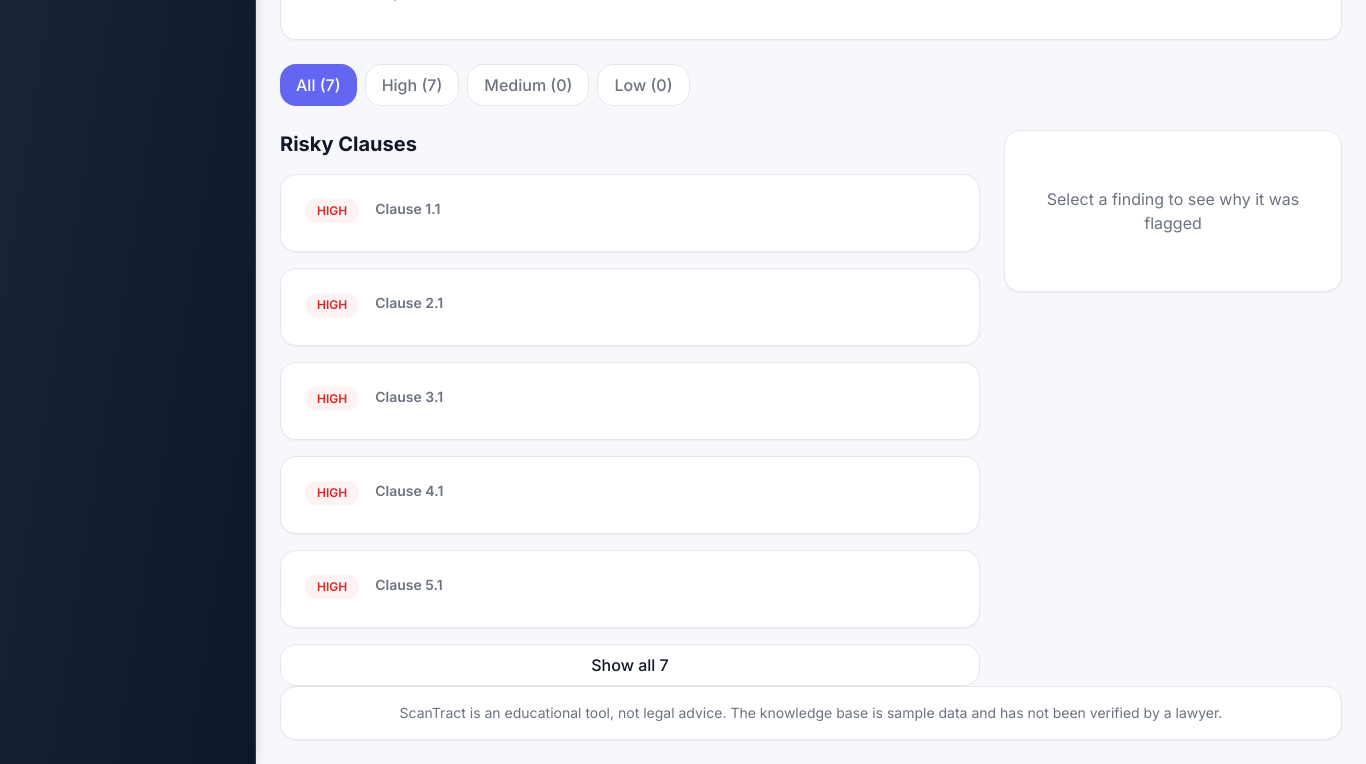
Test: ReportView › shows 5 finding cards and "Show all 7" button with 7 risky findings
The width and height of the screenshot is (1366, 764).
(page scrolled)
Check: the number of elements with test id "finding-card" is 5, box [280,174,980,252]; [280,268,980,346]; [280,362,980,440]; [280,456,980,534]; [280,550,980,628]
Note: Click the button
Click the button "Show all 7" at [630, 665], box [280,644,980,686]
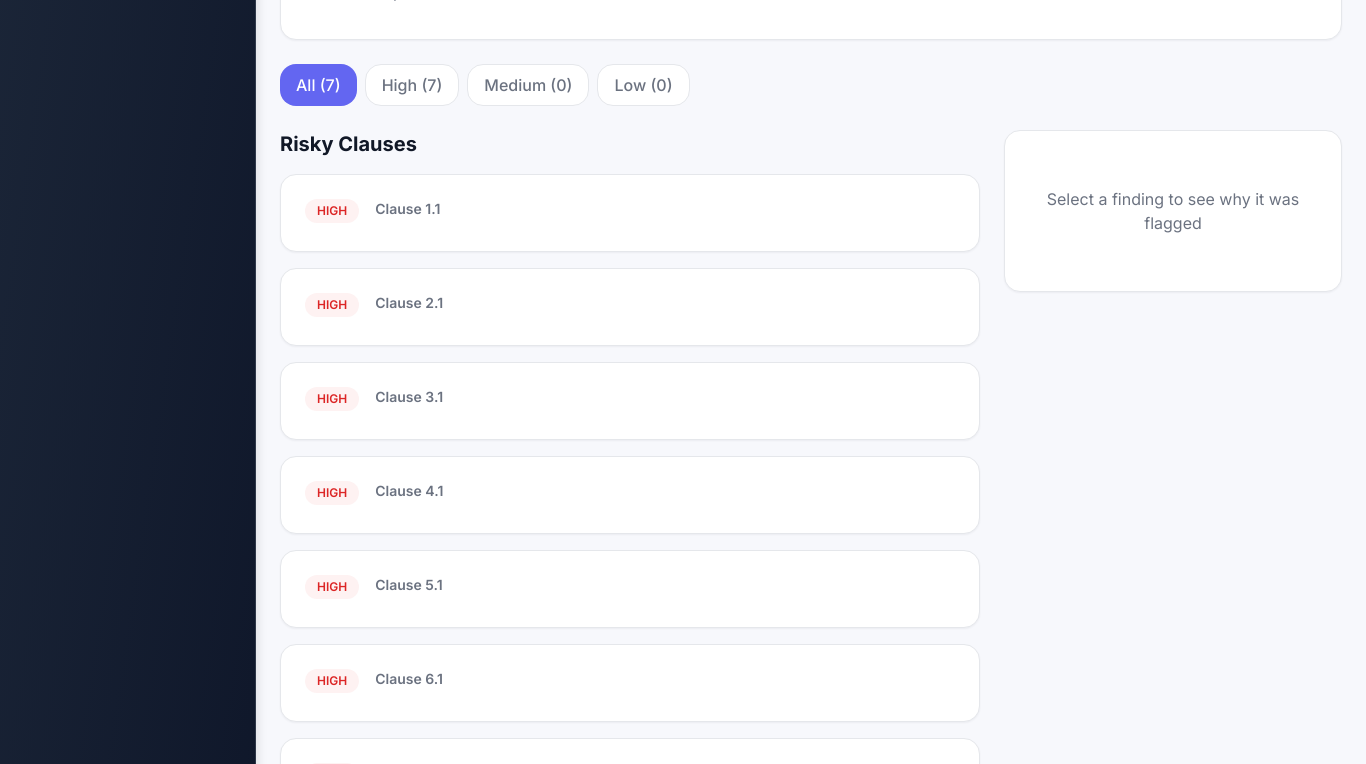
Check: the number of elements with test id "finding-card" is 7
Check: the button "Show all 7" is gone
